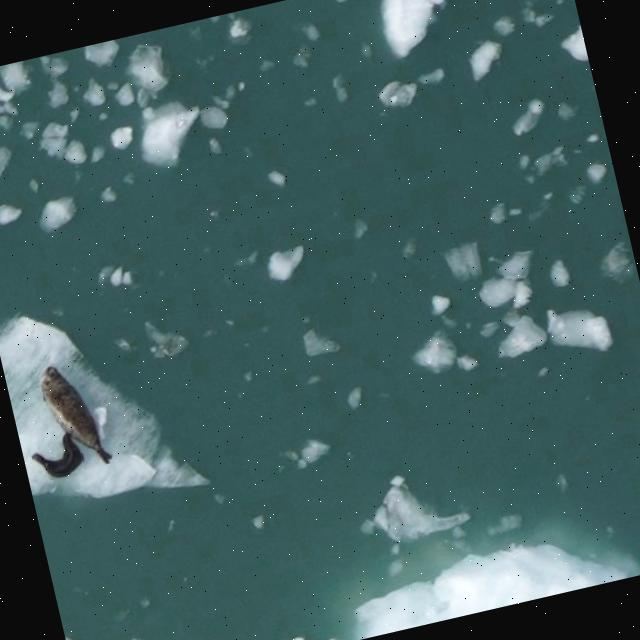seal: (39, 364, 111, 464), (32, 432, 81, 476)
